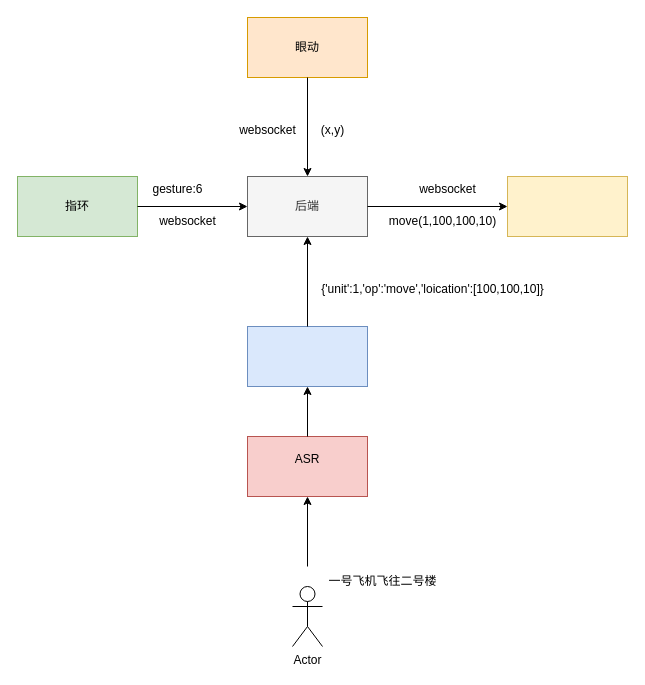
The diagram is 645 pixels wide and 685 high, and some of its shapes have lost their labels. The shapes that lost their labels are listed below. From the top down, each one's centre as x and y in pixels, then its label:
pixel 567 206: 仿真
pixel 307 356: llm
